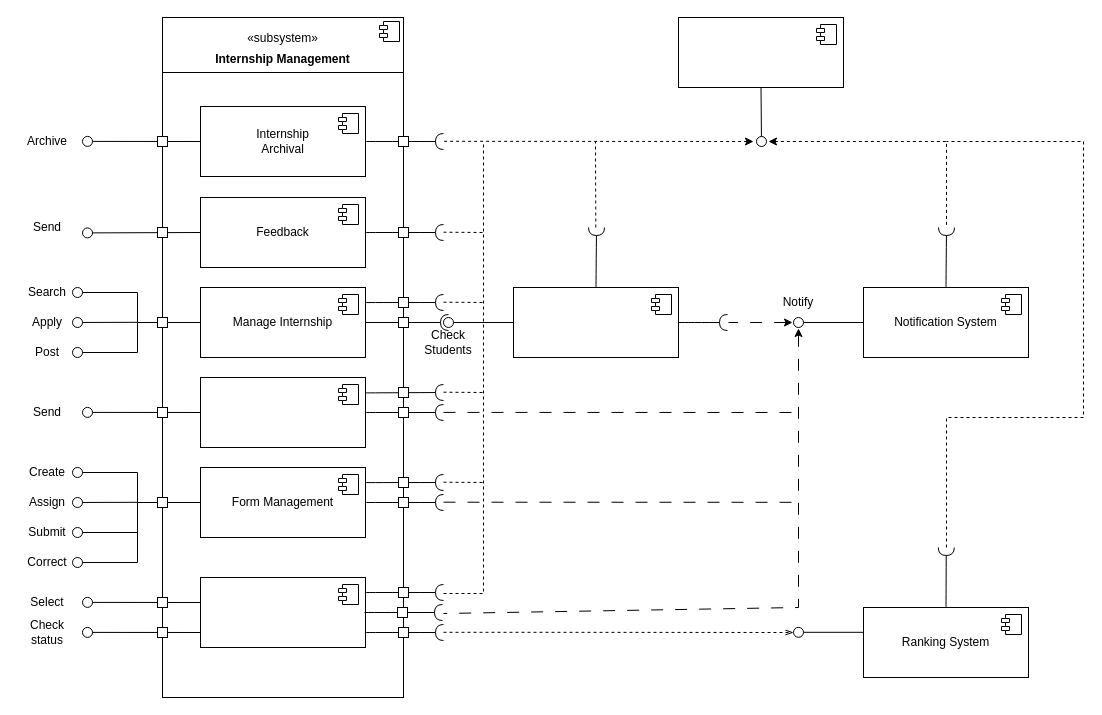
This 1102x715 diagram has some shape labels left out. Here are the shapes that lost their labels. From the top down, the centre of each, then its label:
(761,52): DBMS
(595,322): Recommendation System
(283,412): Complaints
(283,612): Internship Selection
